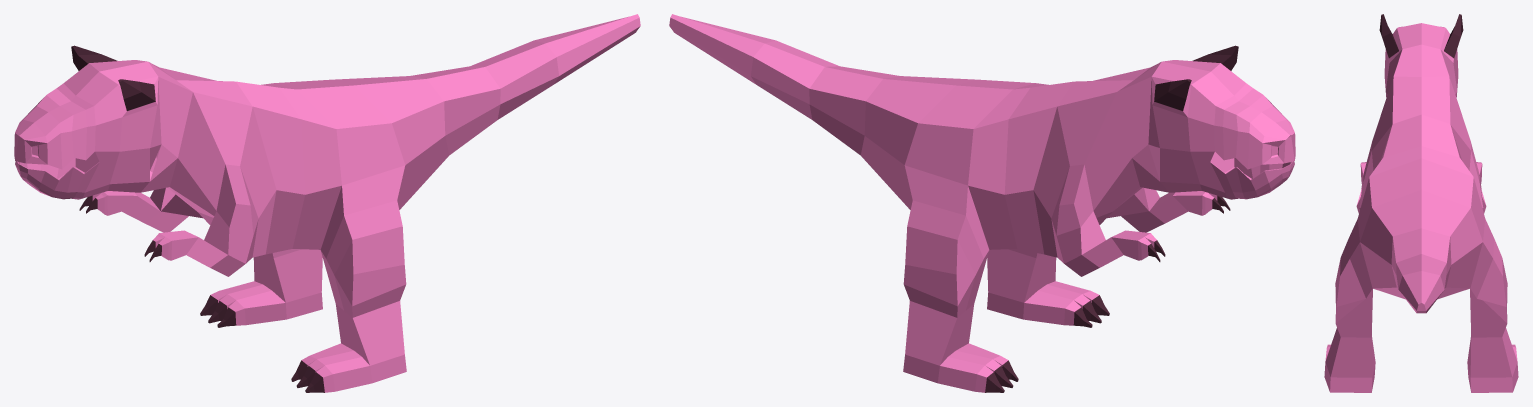
File: dinorojo (1).fbx
3 views of the same model, side by side, from view 1: azimuth 30°, elevation 25°; view 2: azimuth 150°, elevation 25°; view 3: azimuth 270°, elevation 25° (orthographic). The views are drawn at different scales.
Visible parts, largest first — view 1: Cube.012; view 2: Cube.012; view 3: Cube.012.
Boxes of the visible parts, left/top/right/bottom form: Cube.012: left=14, top=14, right=640, bottom=392; Cube.012: left=669, top=14, right=1295, bottom=392; Cube.012: left=1324, top=14, right=1518, bottom=392.
Bounding box in the file's own units: 292 × 457 × 900.
